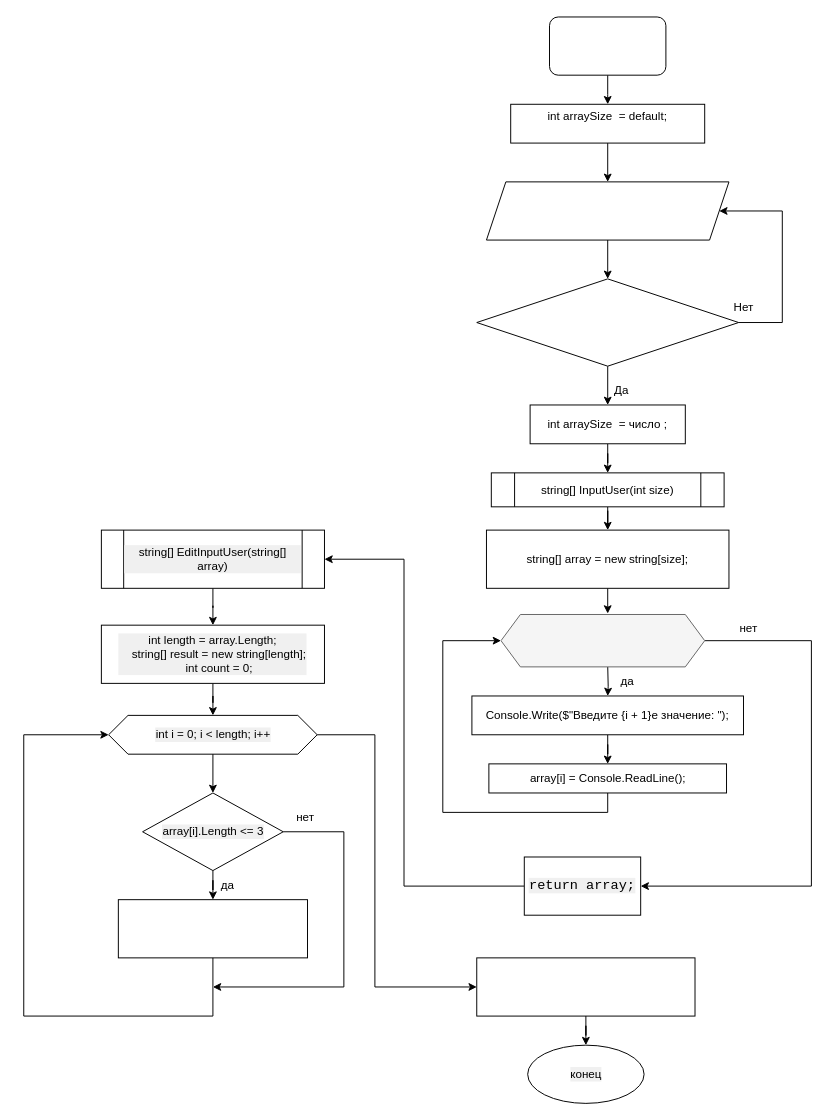
Some shapes in this 836 by 1120 pixel diagram are drawn without their labels. Here are the shapes that lost their labels. From the top down, the centre of each, then its label:
At (607,45): "start".
At (607,210): "Сколько значений будем вводить?".
At (607,322): "Проверяем является ли введенные данные целочесленным значением".
At (602,640): "int i = 0; i < array.Length; i++".
At (212,928): "result[count] = array[i]; count++;".
At (585,986): "Array.Resize(ref result, count); return result;".
